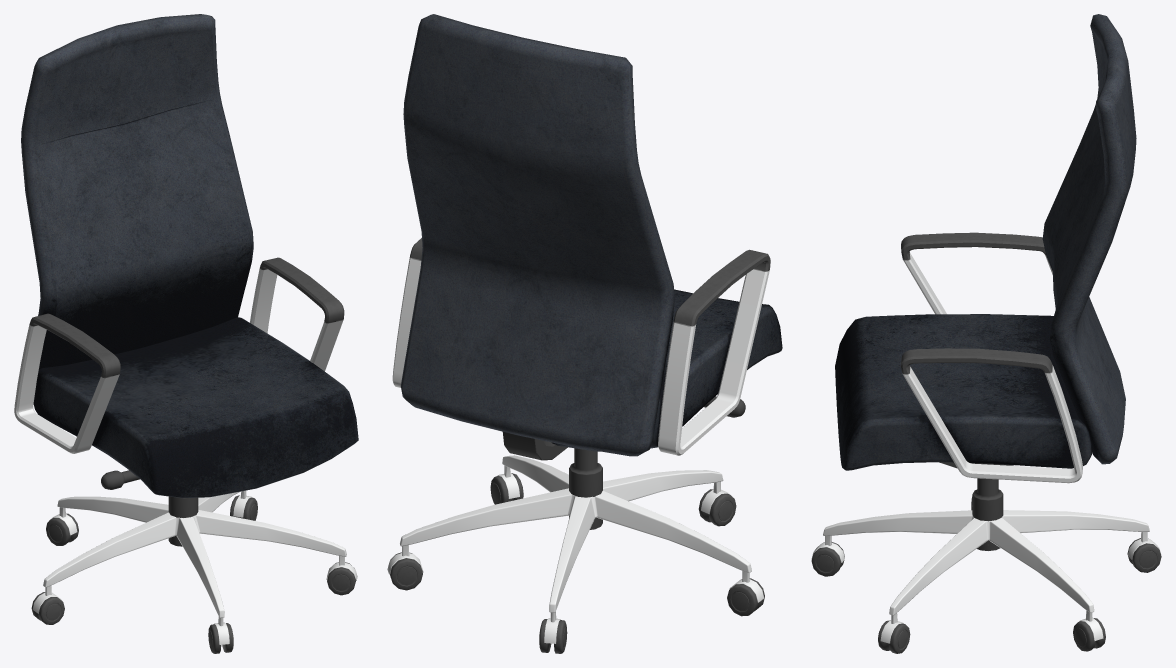
File: Chair.fbx
3 renders of one model, left to right at view 1: azimuth 30°, elevation 25°; view 2: azimuth 150°, elevation 25°; view 3: azimuth 270°, elevation 25°, orthographic. The views are drawn at different scales.
Visible parts, largest first — view 1: Chair; view 2: Chair; view 3: Chair.
Boxes of the visible parts, <box> form: Chair: <box>14,14,358,653</box>; Chair: <box>387,14,782,653</box>; Chair: <box>811,14,1161,653</box>.
Size of the model in its own units: 64.29 by 114 by 66.75.
